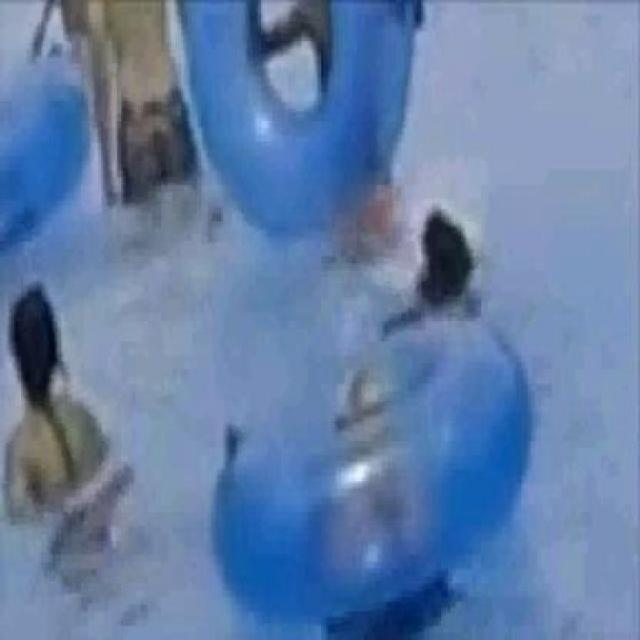drowning: (3, 280, 125, 532), (416, 199, 476, 319)
